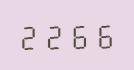six: (90, 19, 113, 49), (66, 20, 89, 49)
two: (18, 20, 41, 50), (42, 20, 65, 50)
